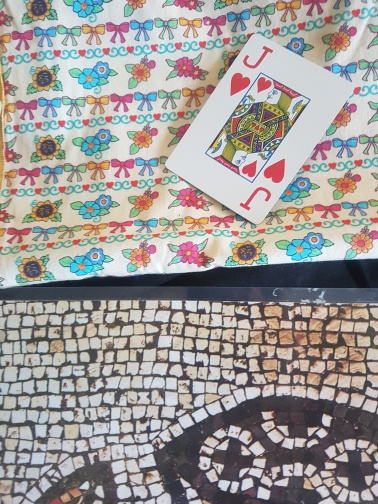jack: (162, 33, 357, 223)
